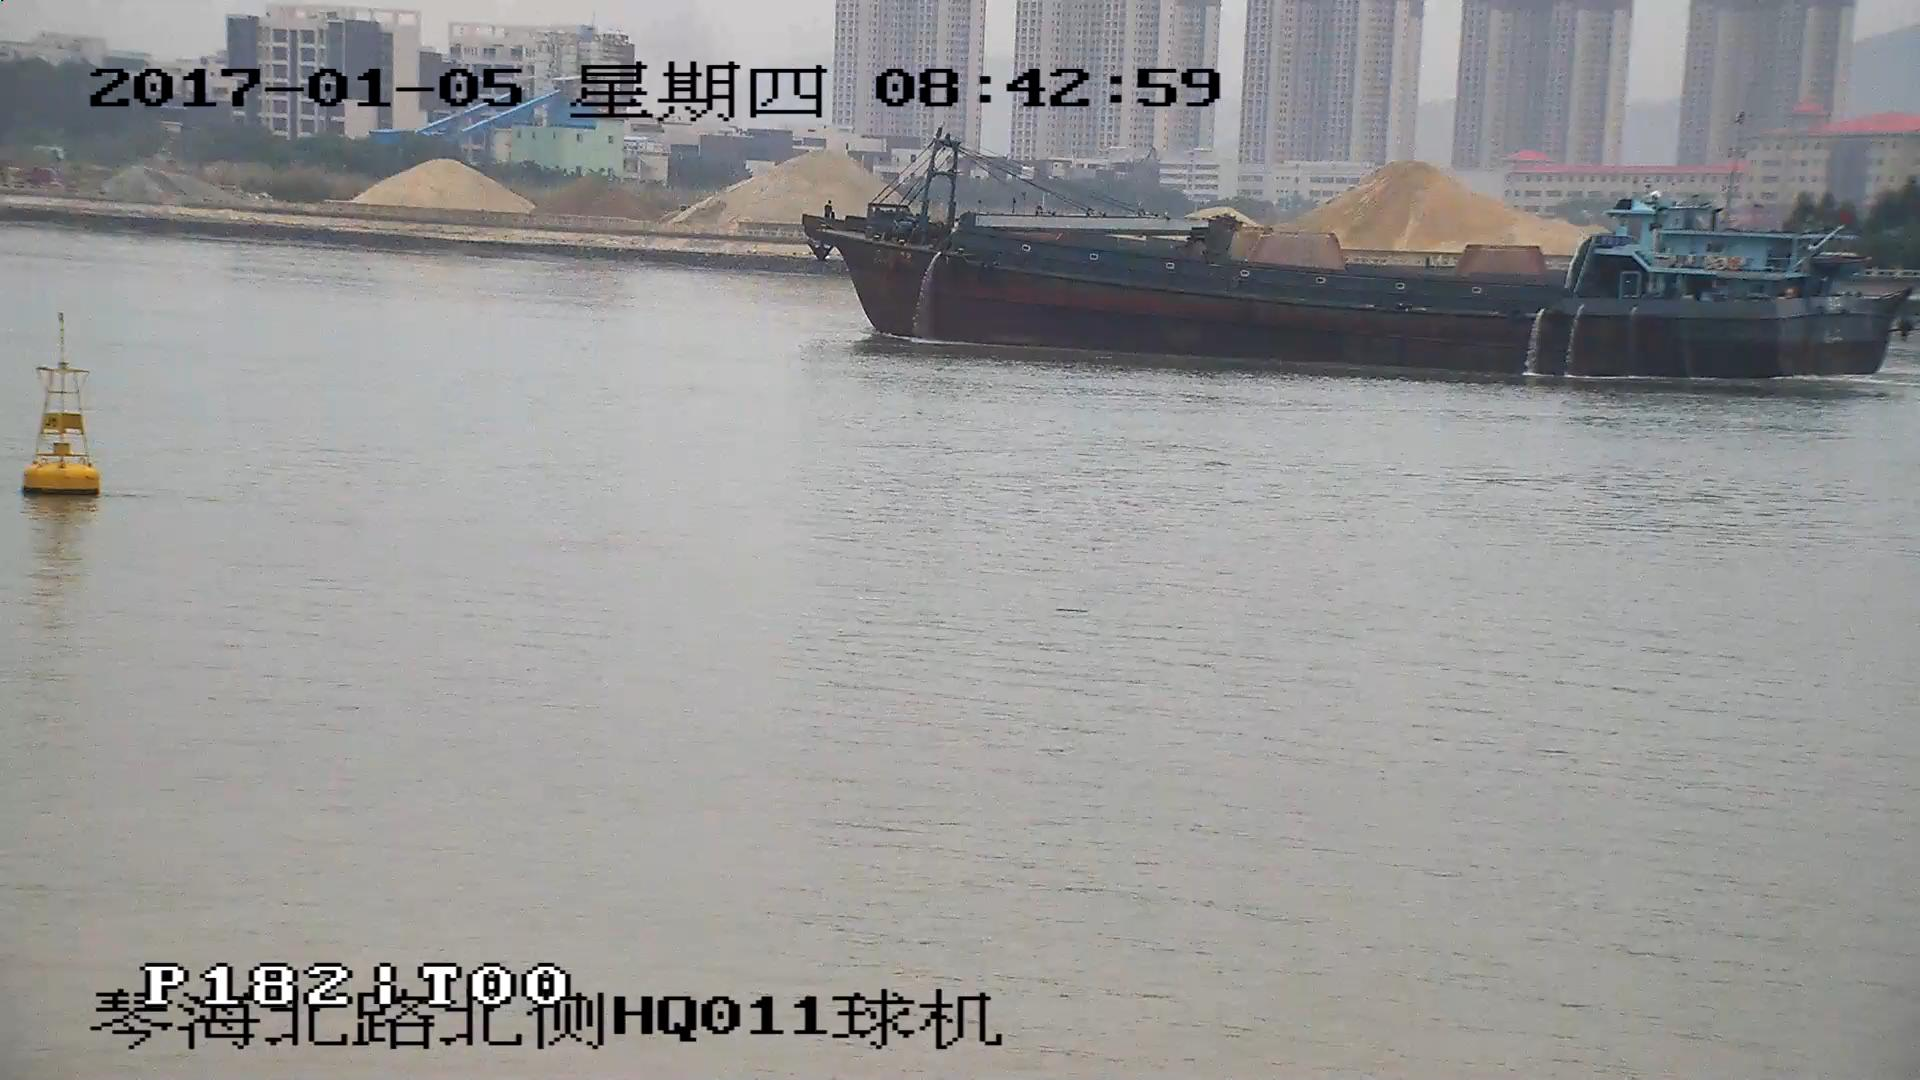bulk cargo carrier: (804, 142, 1912, 374)
